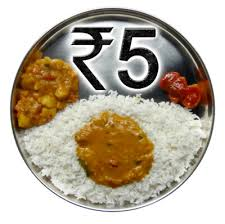curry: (7, 45, 85, 125)
rice: (23, 91, 213, 209)
